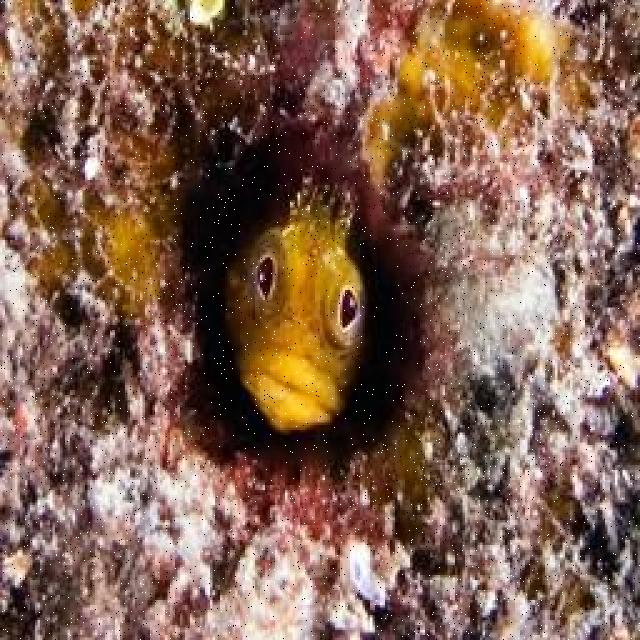fish: (225, 171, 366, 433)
